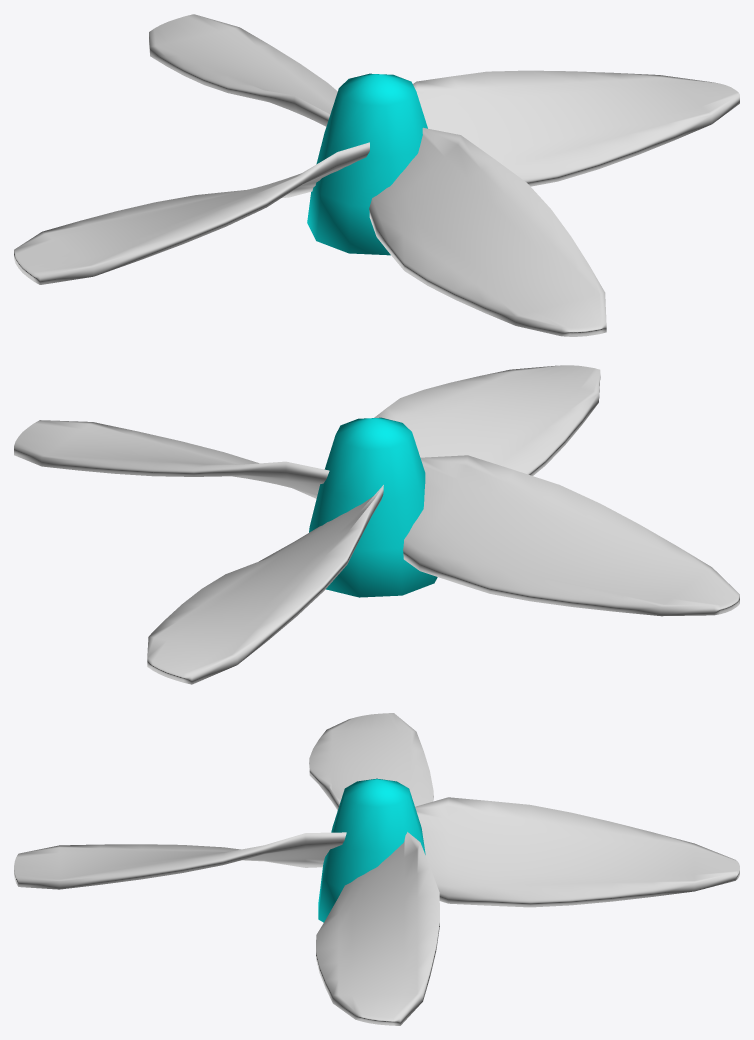
Rendered from propeller.fbx.
The picture shows the model from 3 angles, top to bottom: view 1: azimuth 30°, elevation 25°; view 2: azimuth 150°, elevation 25°; view 3: azimuth 270°, elevation 25°; orthographic projection. The views are drawn at different scales.
Parts seen in each view (by area): view 1: pCube1, pCube4, pCube5, pCone1, pCube3; view 2: pCube5, pCube3, pCube1, pCone1, pCube4; view 3: pCube3, pCube4, pCube1, pCube5, pCone1.
Part boxes in pixels (x1,y1,x2,y2): pCube1: [369, 127, 606, 336]; pCube4: [413, 70, 739, 186]; pCube5: [14, 142, 369, 284]; pCone1: [307, 73, 427, 255]; pCube3: [149, 14, 337, 126]; pCube5: [403, 455, 739, 616]; pCube3: [147, 485, 383, 684]; pCube1: [374, 365, 600, 475]; pCone1: [309, 417, 437, 597]; pCube4: [14, 420, 329, 498]; pCube3: [415, 797, 739, 907]; pCube4: [316, 832, 439, 1025]; pCube1: [14, 832, 346, 889]; pCube5: [309, 713, 433, 810]; pCone1: [318, 778, 425, 922].
Bounding box in the file's own units: 4.43 × 0.9025 × 4.5.
